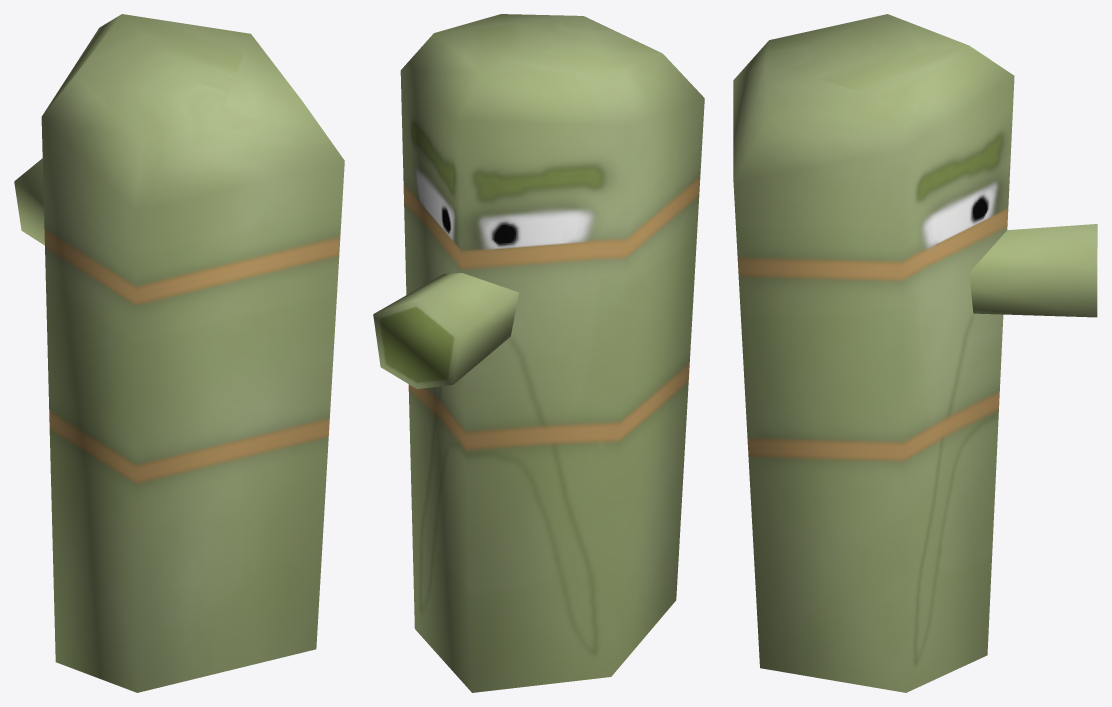
File: bamboozler.glb
The picture shows the model from 3 angles, left to right: view 1: azimuth 30°, elevation 25°; view 2: azimuth 150°, elevation 25°; view 3: azimuth 270°, elevation 25°; orthographic projection.
Visible parts, largest first — view 1: bamboozler; view 2: bamboozler; view 3: bamboozler.
Part boxes in pixels (x1=…): bamboozler: x1=14, y1=14, x2=344, y2=692; bamboozler: x1=373, y1=14, x2=704, y2=692; bamboozler: x1=733, y1=14, x2=1097, y2=692.
Bounding box in the file's own units: 0.7362 × 1.88 × 1.02.
Materials: 1 (1 with a texture image).
